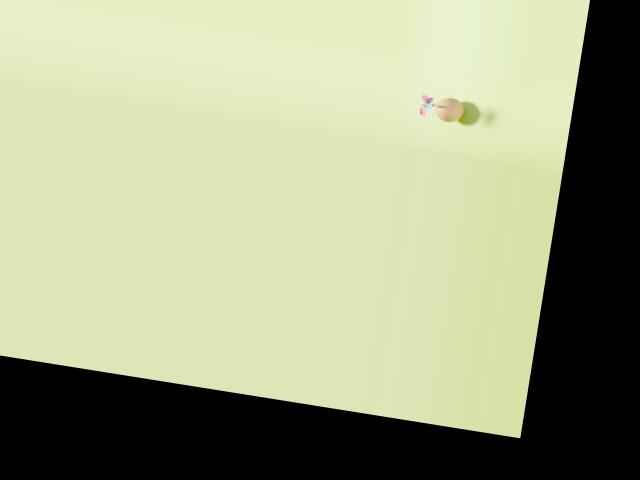egg: (434, 95, 465, 123)
